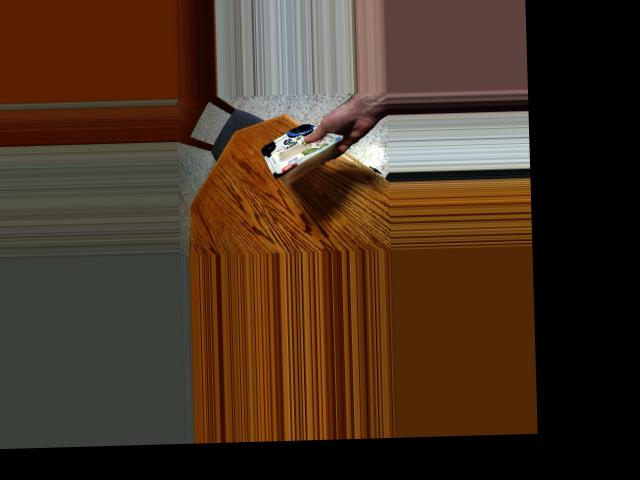cheese: (263, 113, 331, 191)
